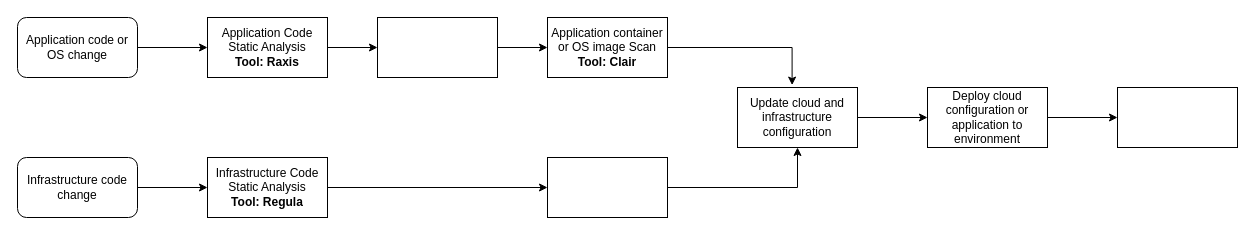
The diagram is 1255 pixels wide and 235 high, and some of its shapes have lost their labels. The centre of each missing label's shape, as x and y in pixels:
"Build application container or OS image" belongs at (x=437, y=47).
"Infrastructure Code Compliance Scan Tool: Checkov" belongs at (x=607, y=187).
"Post-deployment compliance scan Tool: Prowler" belongs at (x=1177, y=117).
